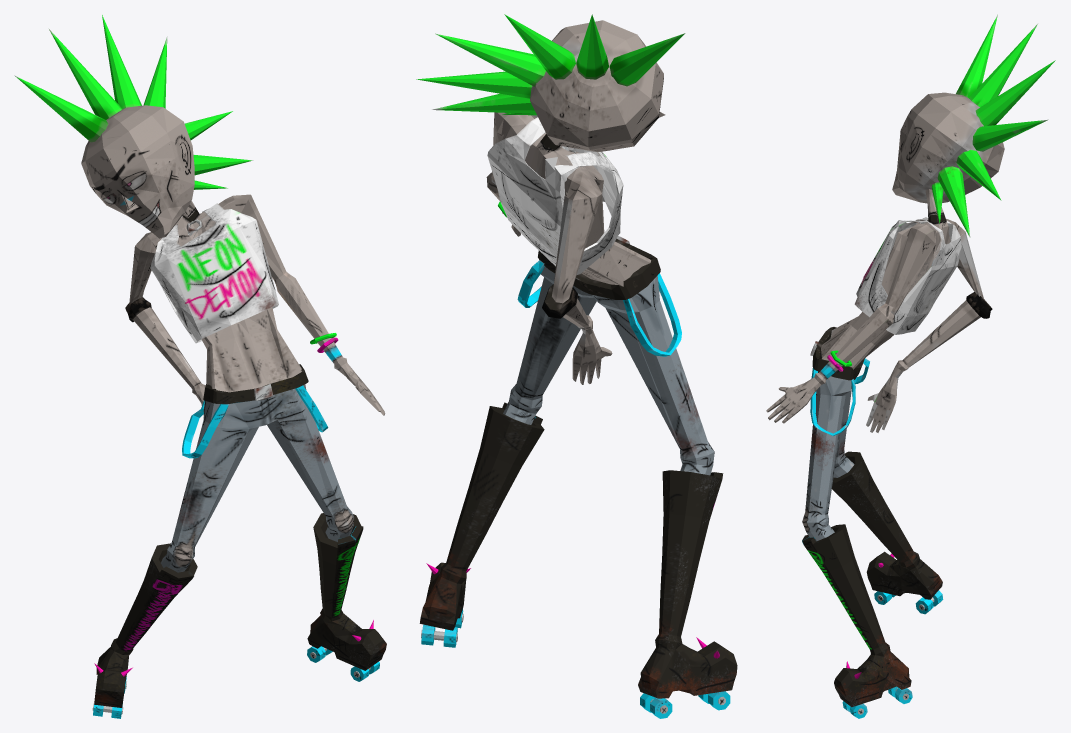
File: punkAnimation_000062.obj
3 renders of one model, left to right at view 1: azimuth 30°, elevation 25°; view 2: azimuth 150°, elevation 25°; view 3: azimuth 270°, elevation 25°, orthographic. The views are drawn at different scales.
Parts seen in each view (by area): view 1: Cube.004_Cube.003; view 2: Cube.004_Cube.003; view 3: Cube.004_Cube.003.
Boxes of the visible parts, box(x1,y1,x2,y2) form: Cube.004_Cube.003: box(14, 15, 386, 718); Cube.004_Cube.003: box(416, 14, 737, 718); Cube.004_Cube.003: box(766, 14, 1055, 718).
Bounding box in the file's own units: 3.16 × 6.53 × 2.9.
